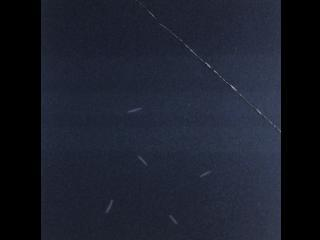crack: (136, 0, 280, 133)
scratch: (180, 158, 217, 182), (101, 191, 119, 222), (133, 149, 151, 172), (162, 209, 180, 226), (124, 102, 143, 118)
